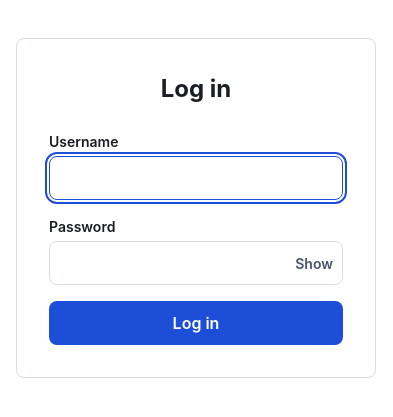
Test: LoginPage › shows field errors and focuses the first invalid field when submitted empty
Click the button "Log in" at (196, 323), box [49,301,343,345]
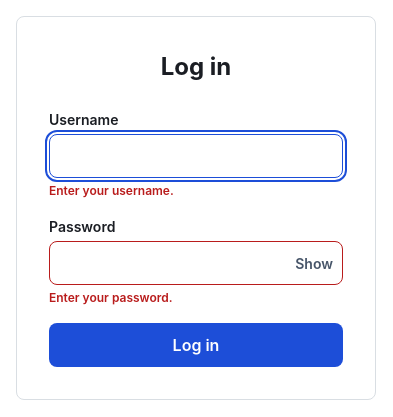
Now the text "Enter your username." is shown, box [49,183,174,198]
